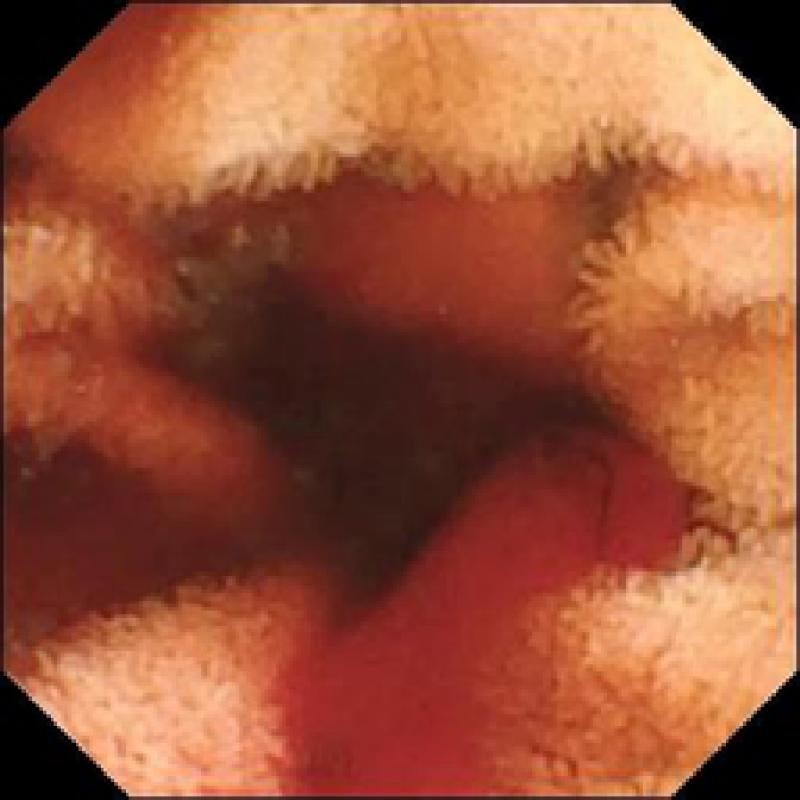bleeding: (286, 425, 693, 800)
